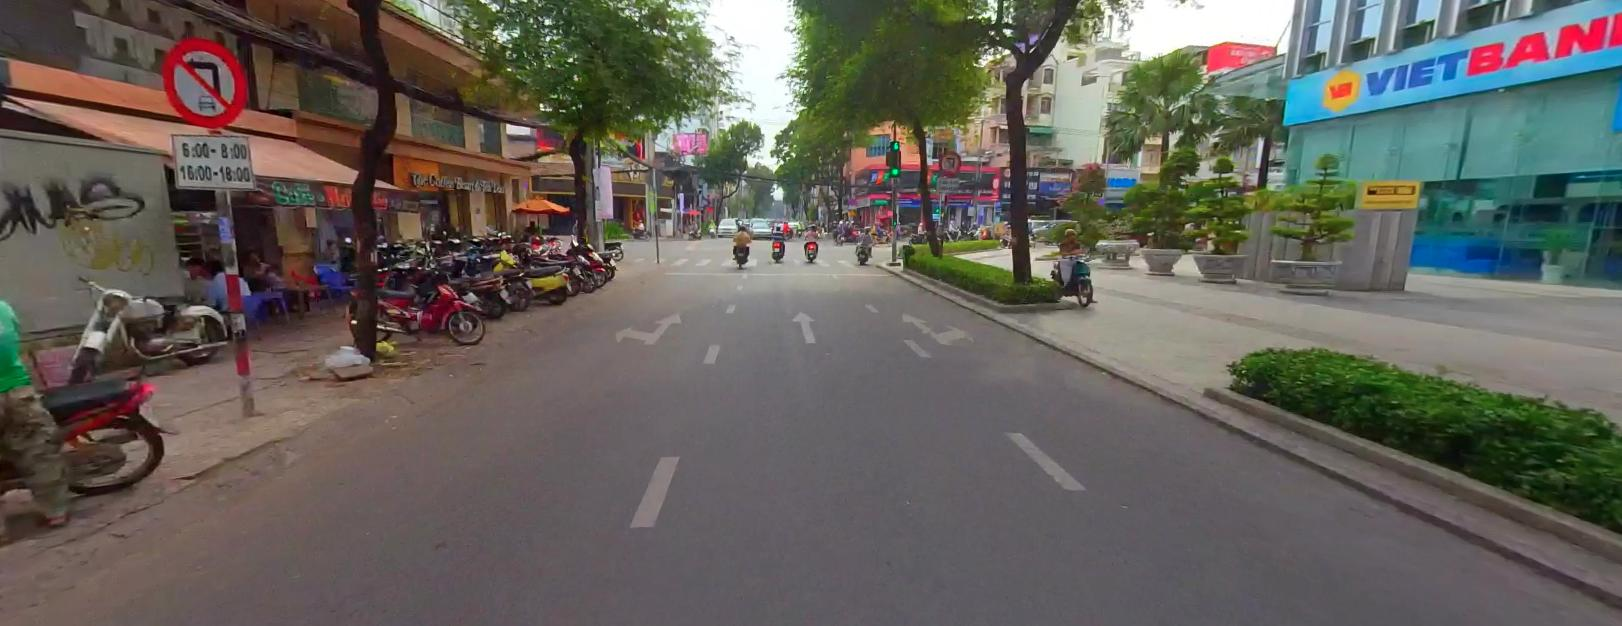Cam dung va do: (848, 197, 854, 202)
Cam re: (163, 36, 246, 126), (939, 149, 960, 176)
Nguy hiem: (848, 208, 855, 214)
